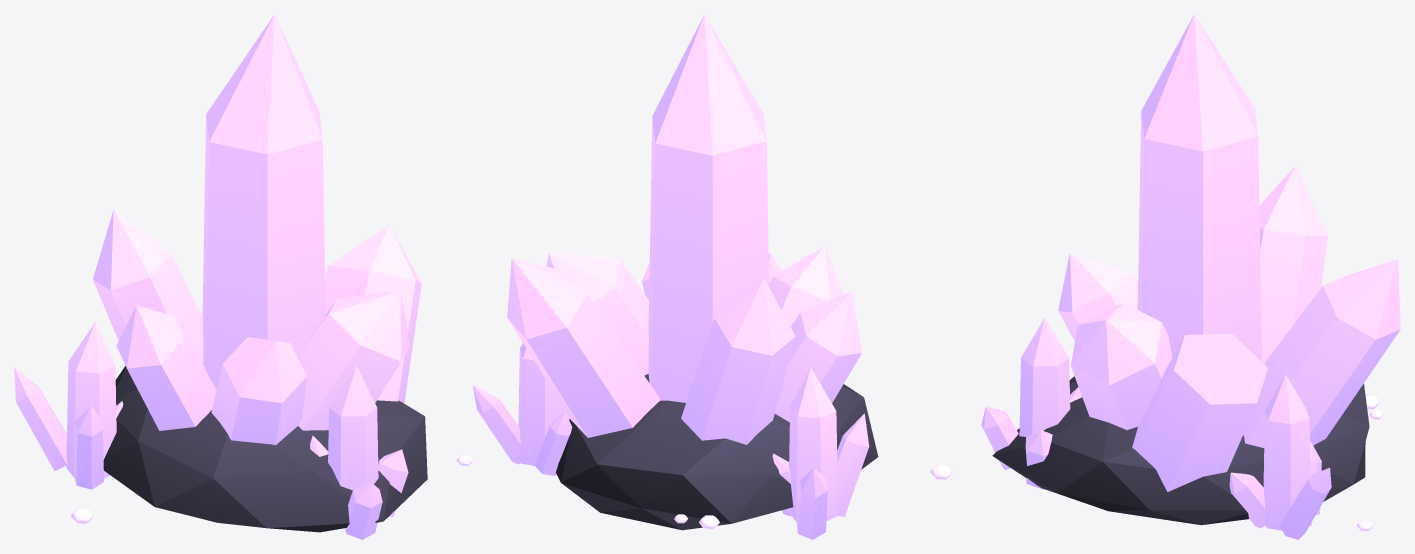
File: crystals_violet.glb
3 renders of one model, left to right at view 1: azimuth 30°, elevation 25°; view 2: azimuth 150°, elevation 25°; view 3: azimuth 270°, elevation 25°, orthographic. The views are drawn at different scales.
Visible parts, largest first — view 1: t0_crystal_violet, t0_rock; view 2: t0_crystal_violet, t0_rock, t0_glow_violet; view 3: t0_crystal_violet, t0_rock.
Boxes of the visible parts, box(x1,y1,x2,y2) form: t0_crystal_violet: box(14, 14, 421, 539); t0_rock: box(103, 366, 427, 532); t0_crystal_violet: box(472, 14, 869, 539); t0_rock: box(556, 374, 878, 530); t0_glow_violet: box(456, 455, 952, 529); t0_crystal_violet: box(981, 14, 1400, 539); t0_rock: box(992, 376, 1369, 525).
Size of the model in its own units: 1.92 by 2.14 by 1.76.
